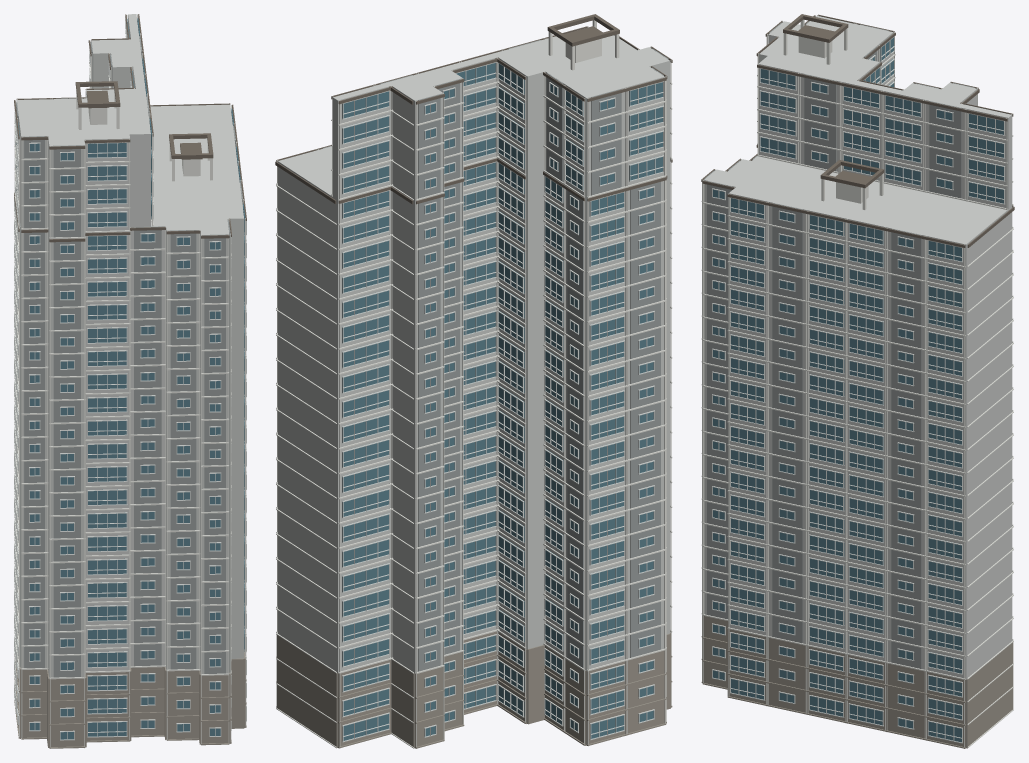
Rendered from bespoke-banpo-xi-131.glb.
3 renders of one model, left to right at view 1: azimuth 30°, elevation 25°; view 2: azimuth 150°, elevation 25°; view 3: azimuth 270°, elevation 25°, orthographic. The views are drawn at different scales.
Visible parts, largest first — view 1: editable_BX131_pale_silver_limestone, editable_BX131_grey_service_core, editable_BX131_blue_grey_broad_glazing, editable_BX131_ivory_course_bands, editable_BX131_white_window_frames, editable_BX131_warm_ground_stone, editable_BX131_dark_coping; view 2: editable_BX131_pale_silver_limestone, editable_BX131_blue_grey_broad_glazing, editable_BX131_white_window_frames, editable_BX131_ivory_course_bands, editable_BX131_grey_service_core, editable_BX131_warm_ground_stone, editable_BX131_dark_coping; view 3: editable_BX131_pale_silver_limestone, editable_BX131_blue_grey_broad_glazing, editable_BX131_white_window_frames, editable_BX131_grey_service_core, editable_BX131_ivory_course_bands, editable_BX131_warm_ground_stone, editable_BX131_dark_coping.
Part boxes in pixels (<box>): editable_BX131_pale_silver_limestone: <box>16,14,244,739</box>; editable_BX131_grey_service_core: <box>16,36,242,677</box>; editable_BX131_blue_grey_broad_glazing: <box>16,18,245,739</box>; editable_BX131_ivory_course_bands: <box>14,14,246,748</box>; editable_BX131_white_window_frames: <box>14,18,246,740</box>; editable_BX131_warm_ground_stone: <box>14,650,246,748</box>; editable_BX131_dark_coping: <box>14,14,246,242</box>; editable_BX131_pale_silver_limestone: <box>278,35,669,747</box>; editable_BX131_blue_grey_broad_glazing: <box>342,63,662,740</box>; editable_BX131_white_window_frames: <box>342,62,664,742</box>; editable_BX131_ivory_course_bands: <box>276,20,672,748</box>; editable_BX131_grey_service_core: <box>322,40,668,671</box>; editable_BX131_warm_ground_stone: <box>276,631,672,748</box>; editable_BX131_dark_coping: <box>275,14,672,204</box>; editable_BX131_pale_silver_limestone: <box>704,15,1012,747</box>; editable_BX131_blue_grey_broad_glazing: <box>713,37,1003,742</box>; editable_BX131_white_window_frames: <box>712,36,1005,743</box>; editable_BX131_grey_service_core: <box>704,21,974,668</box>; editable_BX131_ivory_course_bands: <box>701,15,1013,748</box>; editable_BX131_warm_ground_stone: <box>701,616,1013,748</box>; editable_BX131_dark_coping: <box>701,14,1014,247</box>.
Bounding box in the file's own units: 35.09 × 72.9 × 33.33.
